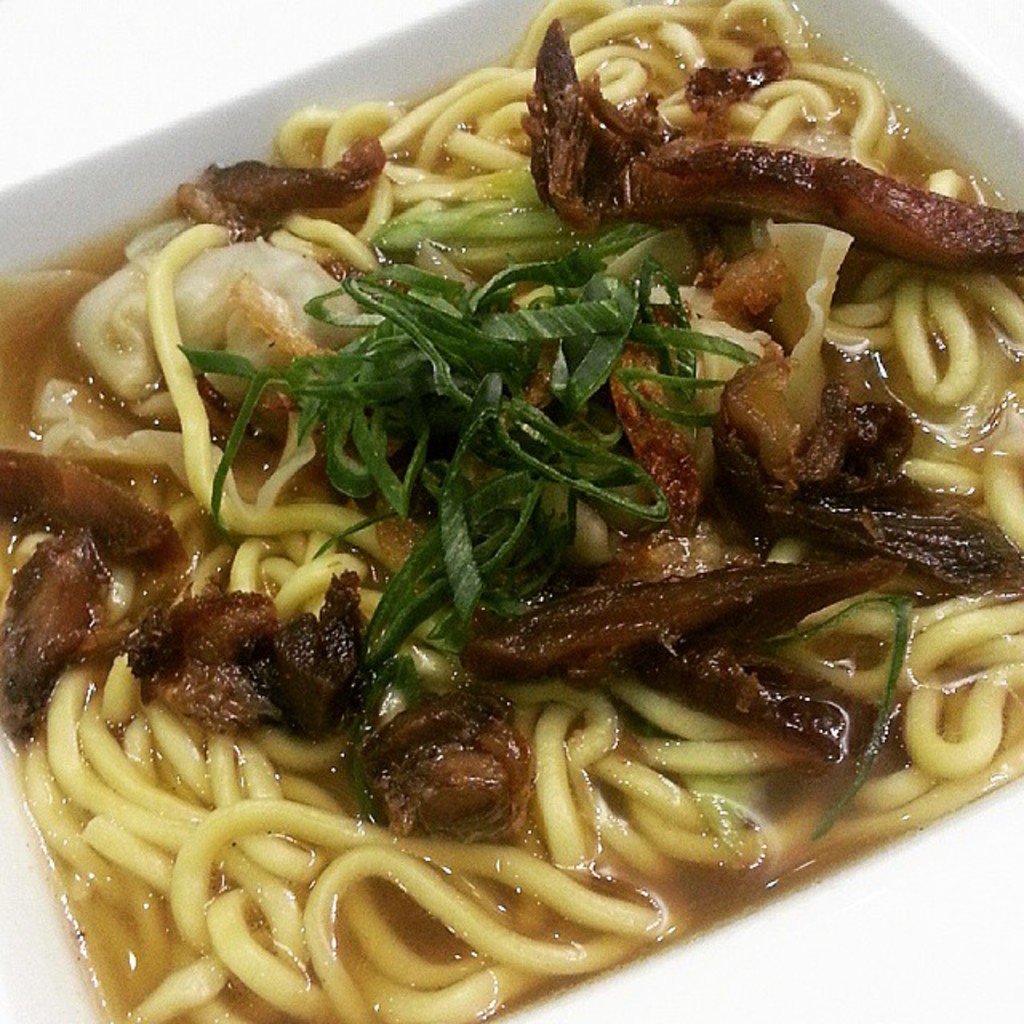pasta: (26, 0, 1022, 1022)
